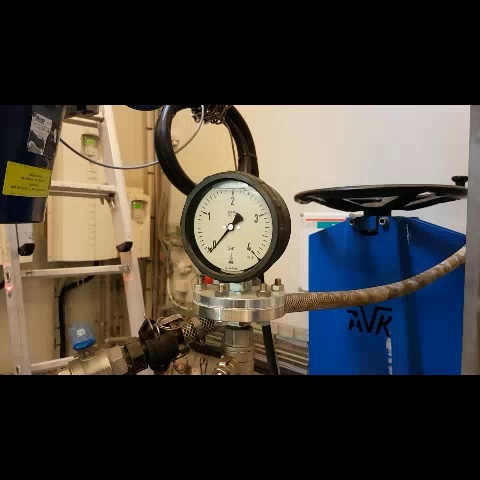Round_Meter: (189, 179, 275, 277)
